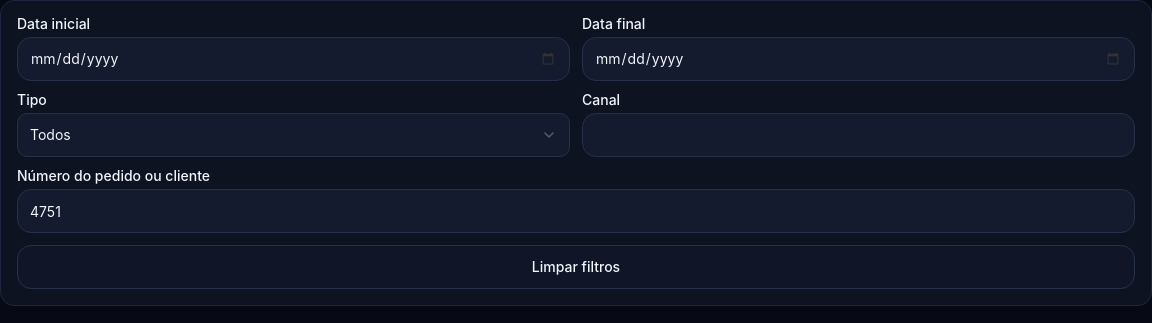
it: OrderFiltersBar - origem da mudança (regressão) › limpar por fora não é regravado pelo debounce (busca)
Expected: the search field labelled "Número do pedido ou cliente" holds "4751", [17, 189, 1135, 233]
What coordinates should you click on to do the following:
click the button "Limpar filtros"
I would click on:
 (576, 267)
Its box is [17, 245, 1135, 289].
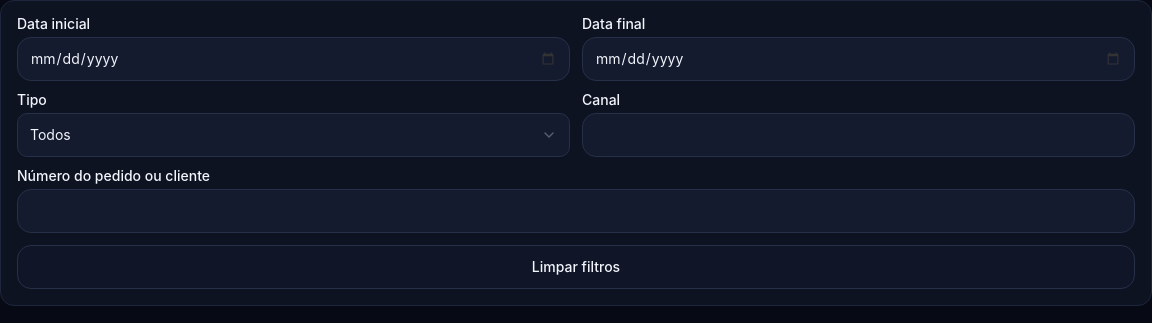
Expected: the search field labelled "Número do pedido ou cliente" is empty, [17, 189, 1135, 233]
